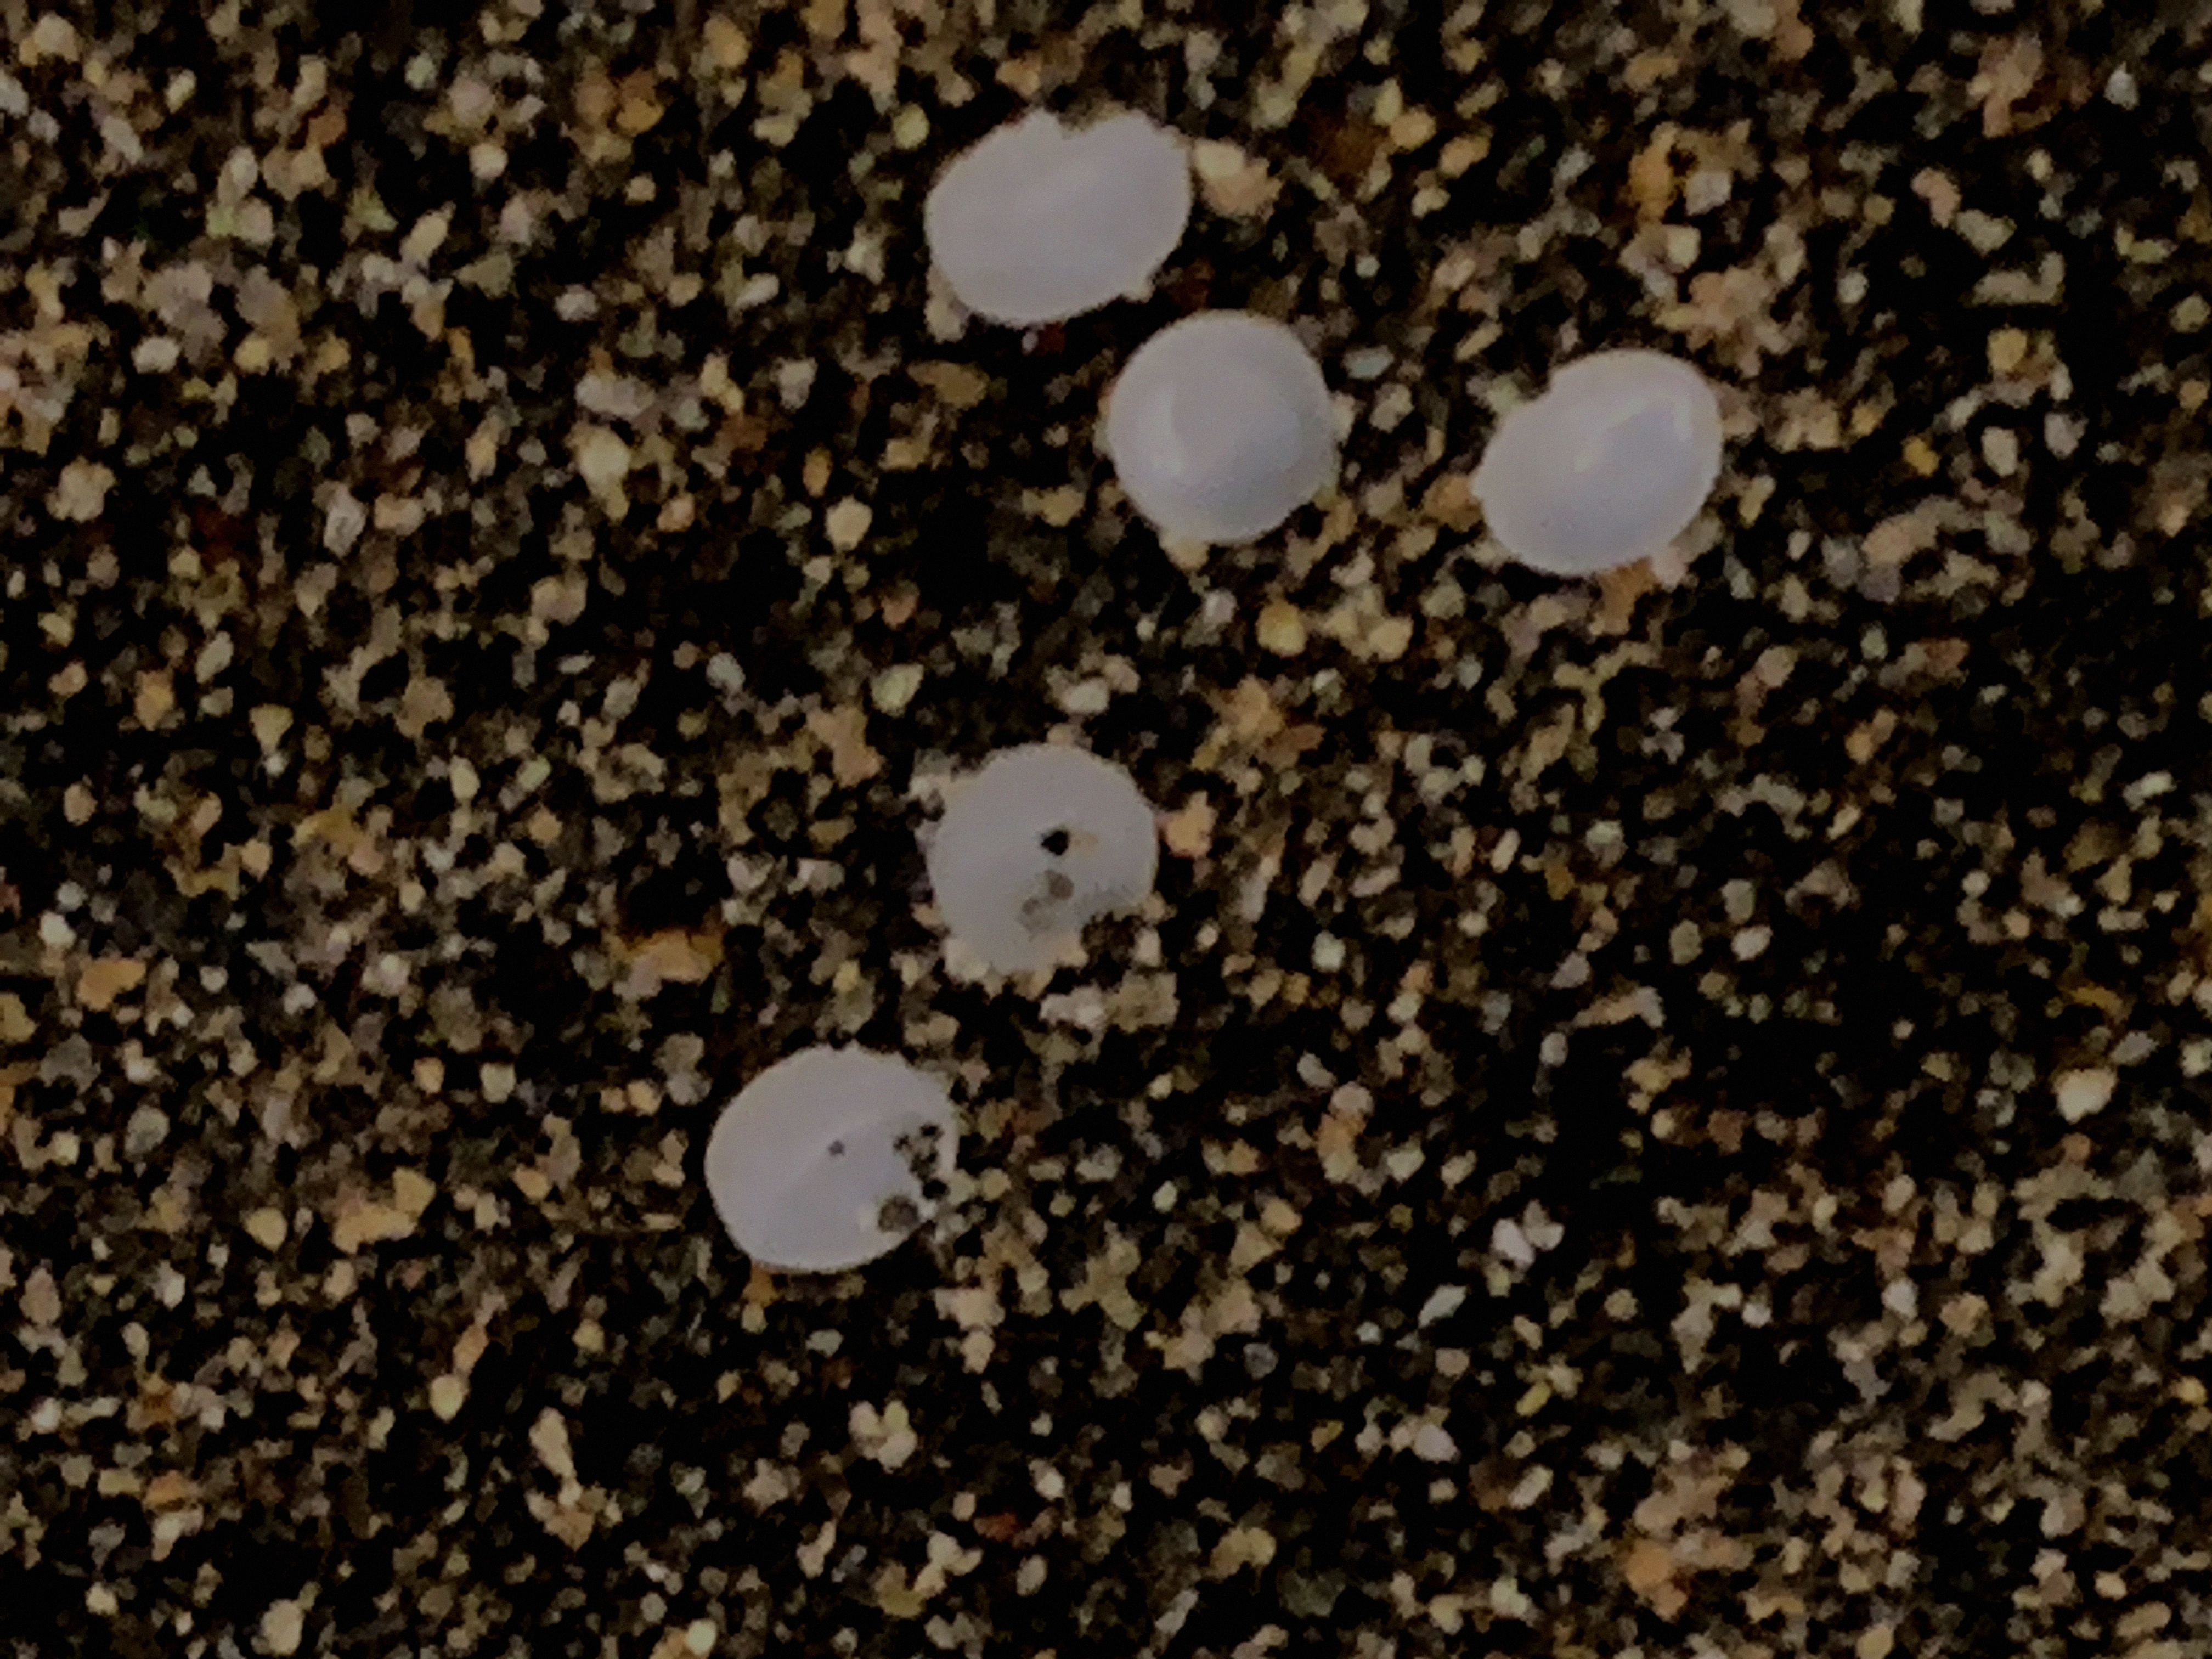Nurdle: (1475, 342, 1789, 617), (1078, 305, 1348, 547), (707, 1033, 948, 1300), (897, 92, 1157, 315), (932, 725, 1172, 964)
